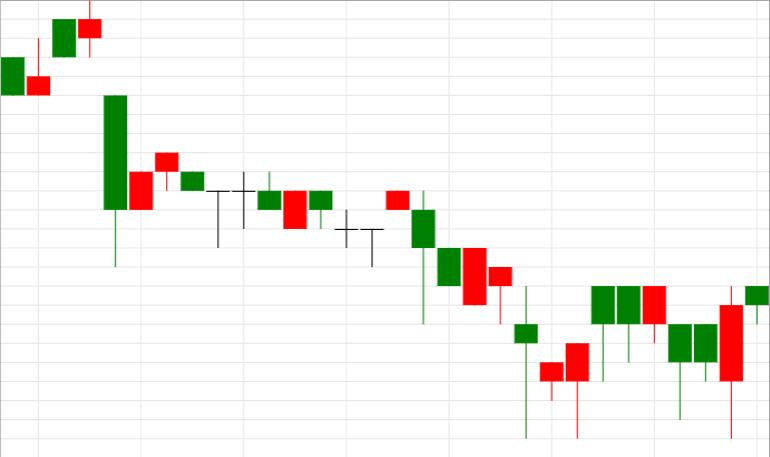hammer_rise: (385, 191, 589, 439)
